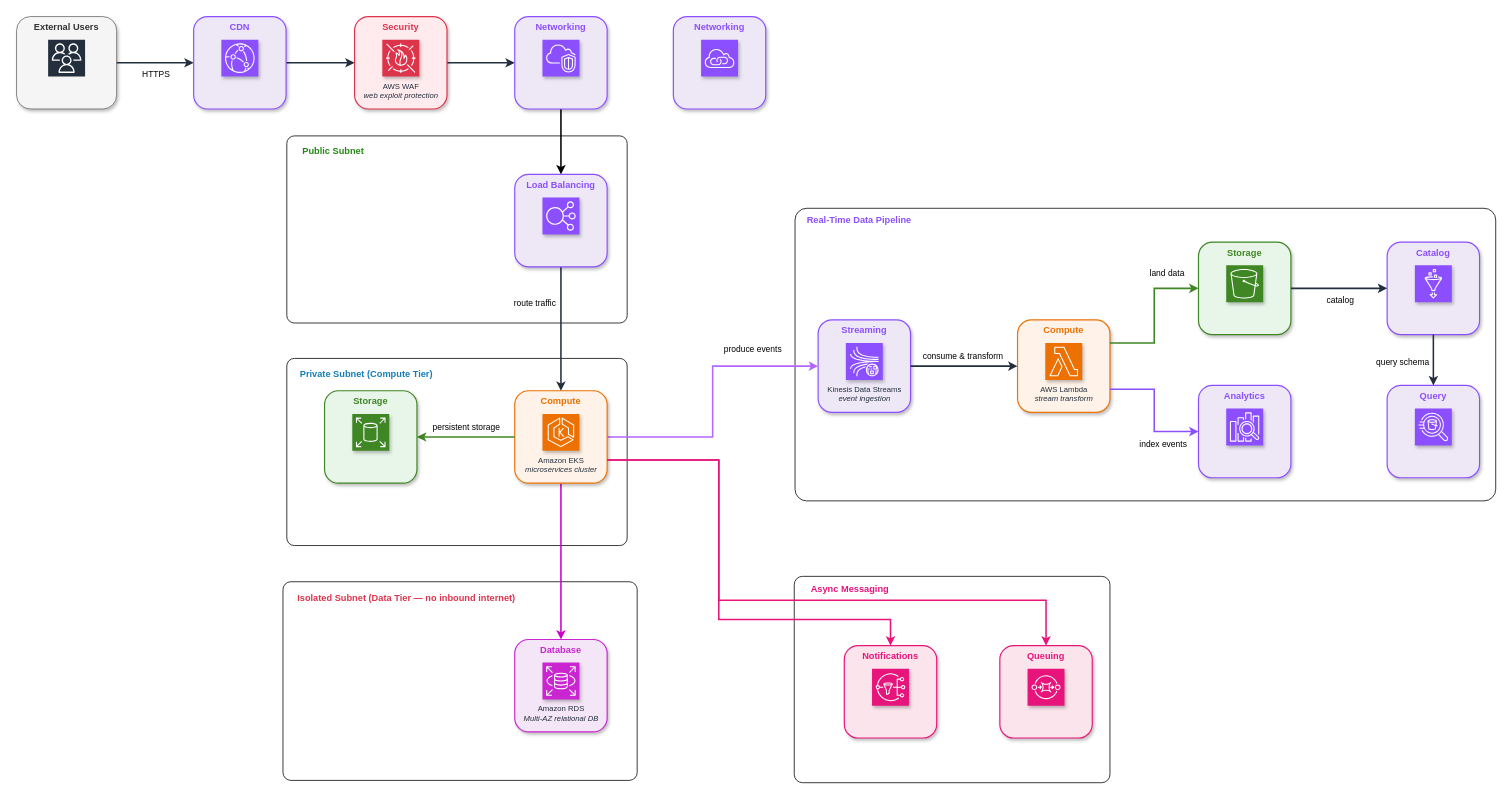
This 1509x797 diagram has some shape labels left out. The centre of each missing label's shape, as x and y in pixels:
Amazon Athena ad-hoc SQL queries: (1433,428)
Amazon CloudFront CDN / caching: (240,59)
Amazon EBS persistent node storage: (371,433)
Amazon OpenSearch real-time dashboards: (1245,428)
Amazon S3 data lake: (1245,284)
Amazon SNS event notifications: (891,688)
Amazon SQS background tasks: (1046,688)
Application Load Balancer multi-AZ: (561,217)
AWS Glue data catalog: (1433,284)
Internet Gateway: (561,59)
NAT Gateway outbound access: (720,59)
